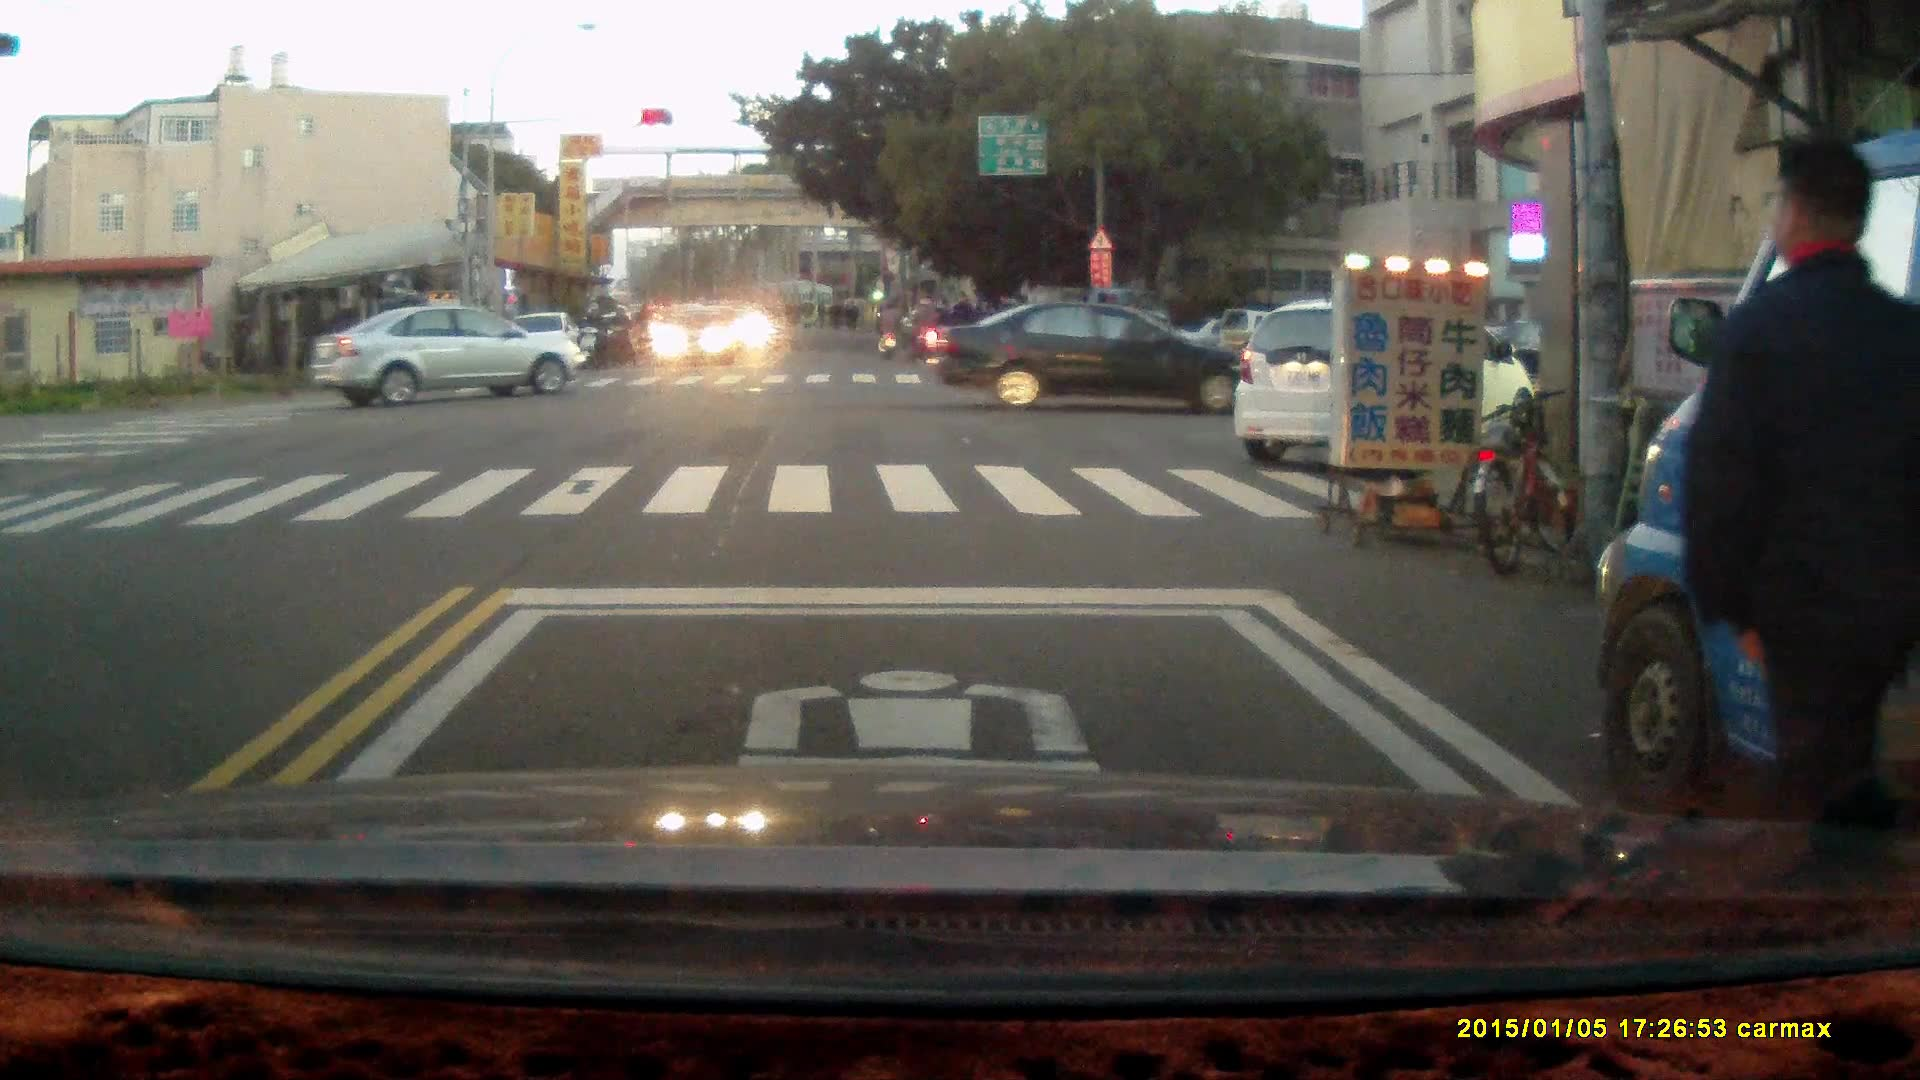pedestrian: (1680, 131, 1920, 834)
rider: (905, 296, 943, 363), (871, 294, 904, 359), (576, 301, 608, 367), (605, 302, 633, 365)
vehicle: (1598, 132, 1920, 844), (1233, 296, 1533, 459), (927, 298, 1239, 413), (313, 305, 587, 407), (1002, 284, 1179, 367)
